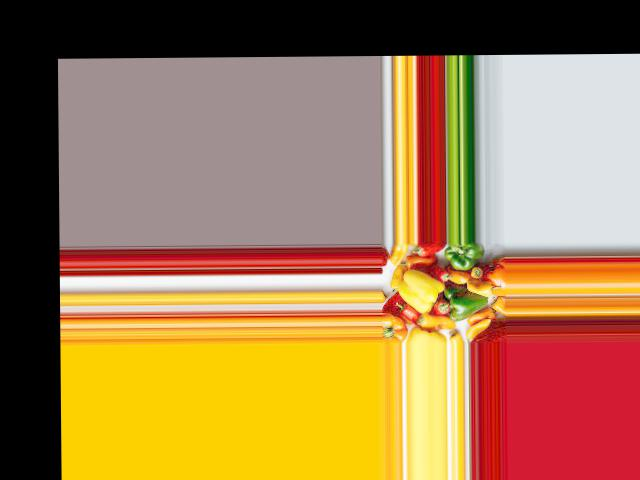bell_pepper: (410, 242, 442, 260)
